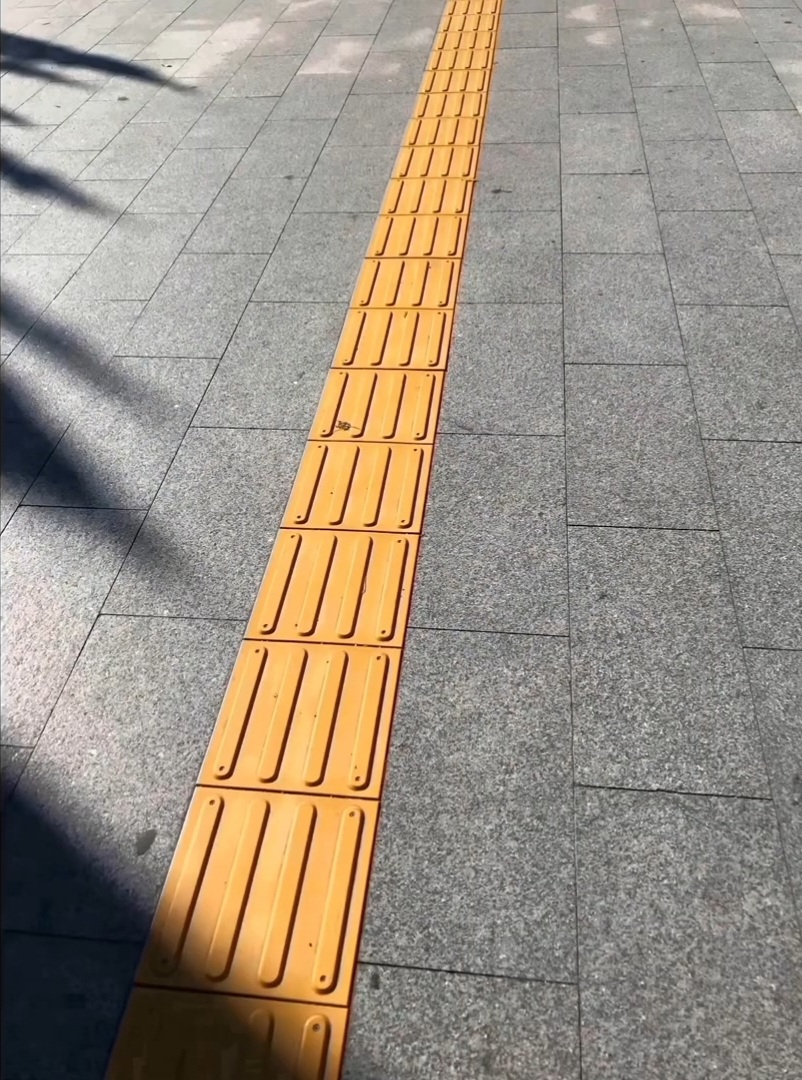guideBlock: (173, 792, 355, 975), (235, 639, 394, 803), (301, 444, 445, 555), (278, 540, 396, 646), (322, 367, 449, 435), (345, 303, 440, 369), (369, 256, 460, 309), (401, 150, 486, 192), (403, 172, 477, 217), (383, 213, 454, 256), (415, 117, 481, 150)
